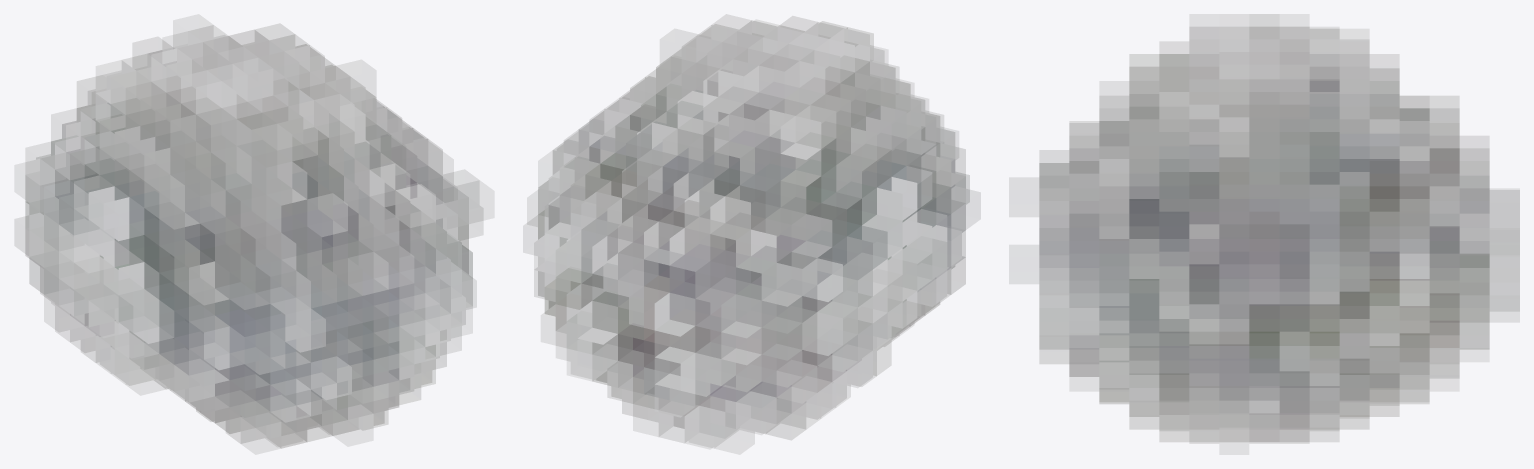
Rendered from iter_20.obj.
3 renders of one model, left to right at view 1: azimuth 30°, elevation 25°; view 2: azimuth 150°, elevation 25°; view 3: azimuth 270°, elevation 25°, orthographic.
Parts seen in each view (by area): view 1: iter_20; view 2: iter_20; view 3: iter_20.
Boxes of the visible parts, <box> form: iter_20: <box>25,25,483,448</box>; iter_20: <box>527,20,969,447</box>; iter_20: <box>1039,14,1519,442</box>.
Bounding box in the file's own units: 1.4 × 1.3 × 1.7.
